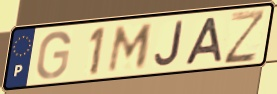1: (88, 26, 107, 77)
A: (183, 16, 225, 67)
G: (34, 30, 73, 81)
J: (152, 20, 185, 68)
M: (105, 22, 156, 75)
Z: (222, 7, 269, 66)
